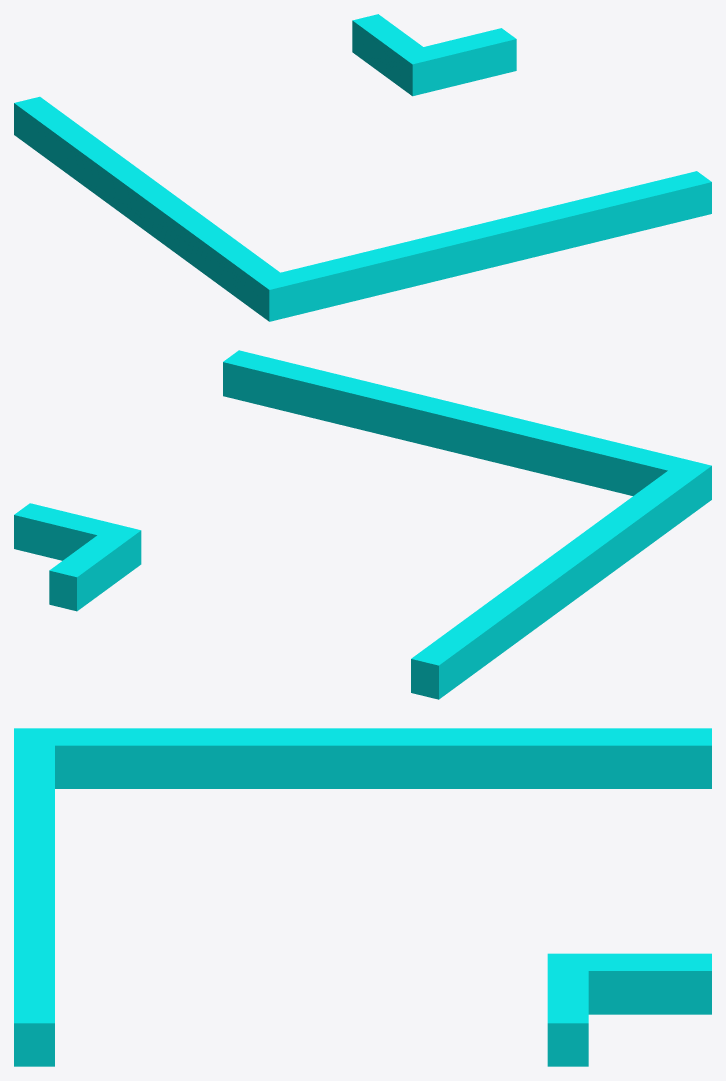
Rendered from RAILS_CORNER.fbx.
The picture shows the model from 3 angles, top to bottom: view 1: azimuth 30°, elevation 25°; view 2: azimuth 150°, elevation 25°; view 3: azimuth 270°, elevation 25°; orthographic projection. The views are drawn at different scales.
Visible parts, largest first — view 1: RAILS_CORNER; view 2: RAILS_CORNER; view 3: RAILS_CORNER.
Part boxes in pixels (box(x1,y1,x2,y2)): RAILS_CORNER: box(14, 14, 711, 321); RAILS_CORNER: box(14, 350, 711, 699); RAILS_CORNER: box(14, 728, 711, 1066).
Size of the model in its own units: 85 by 5.86 by 85.
